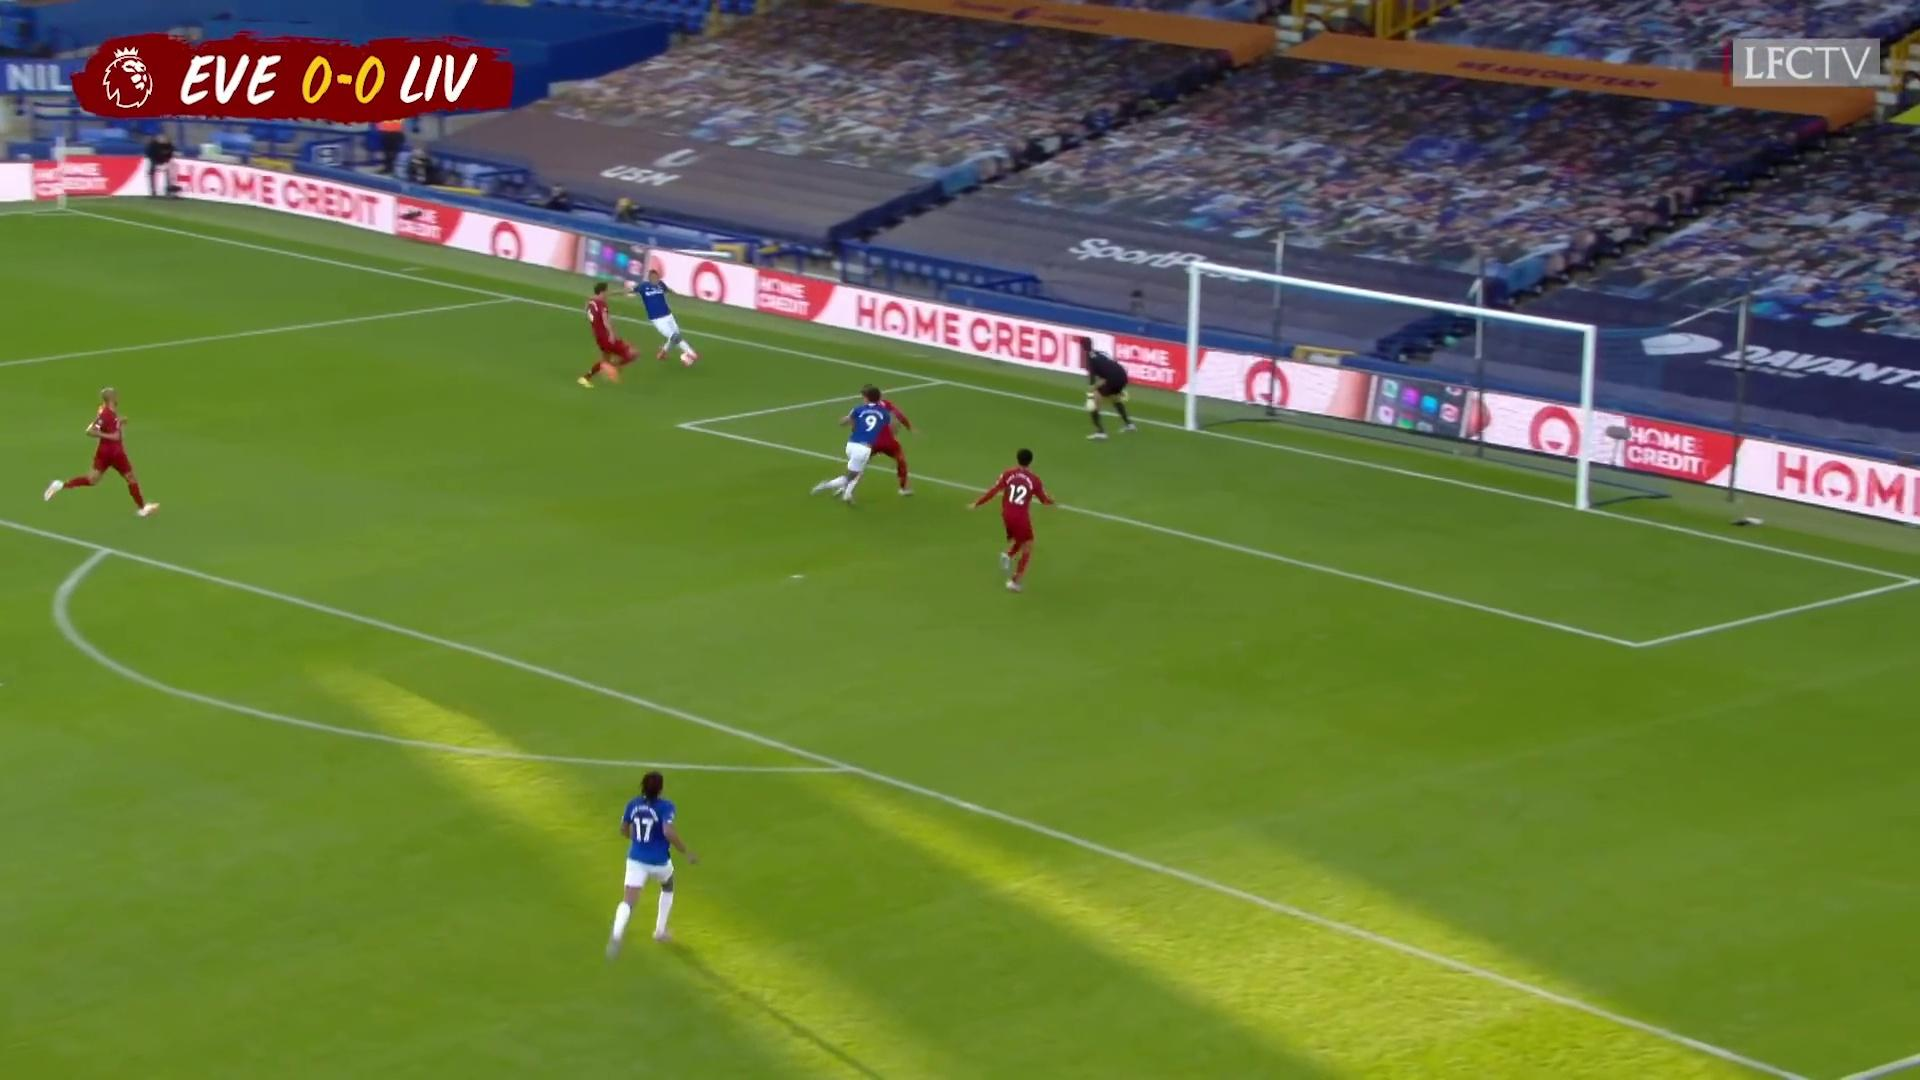ball: (677, 348, 701, 371)
goalkeeper: (1076, 331, 1145, 444)
player: (599, 765, 694, 963), (42, 384, 161, 525), (971, 442, 1066, 595), (810, 382, 891, 509), (831, 382, 917, 496), (635, 264, 702, 372), (578, 280, 639, 393)
